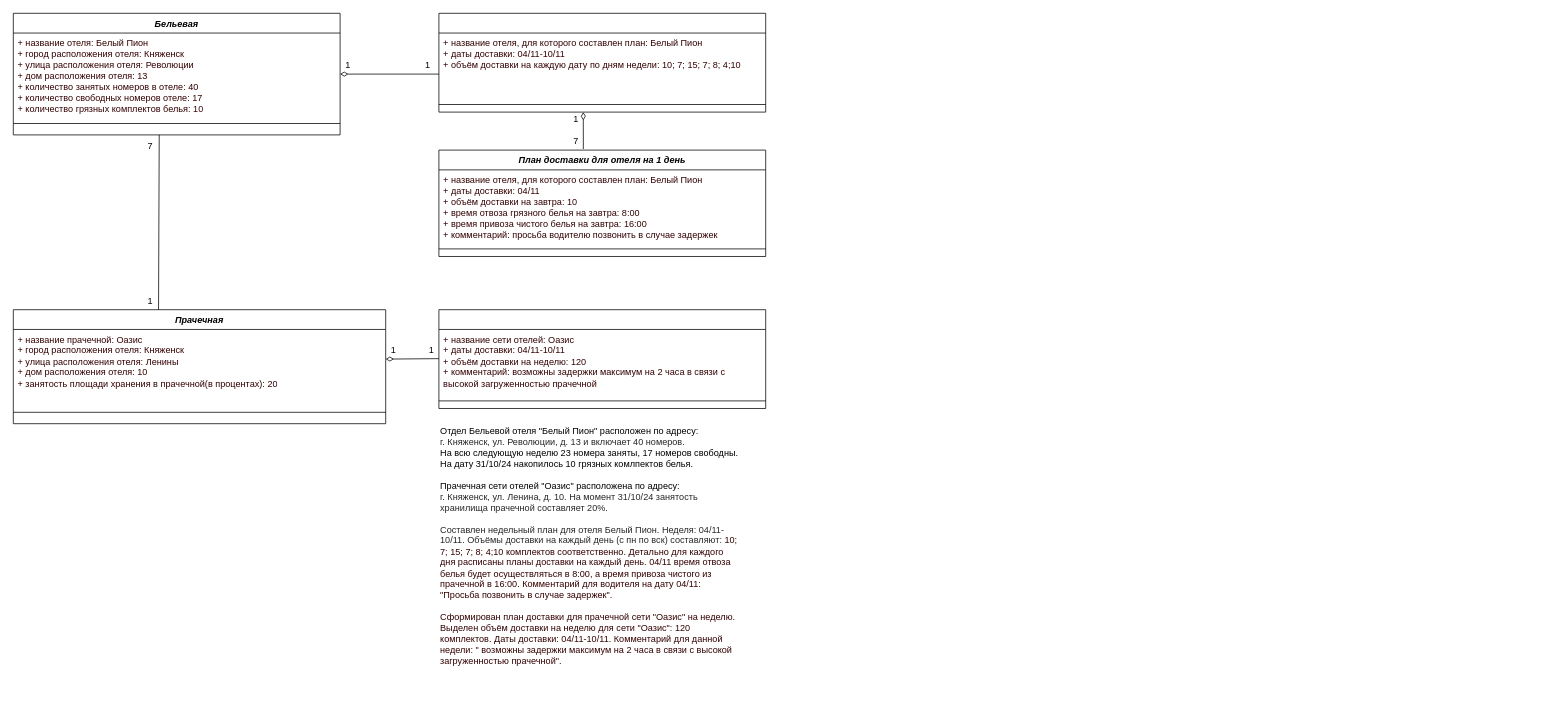
Image size: 1562x724. Some labels were removed from this diagram. The shapes that lost their labels are listed below. From the top down, each one's box as (x1, y1, x2, y2) in pixels, then its label:
(438, 13, 766, 112): Еженедельный план доставки для отеля
(438, 309, 766, 408): План доставки на неделю для сети отелей
